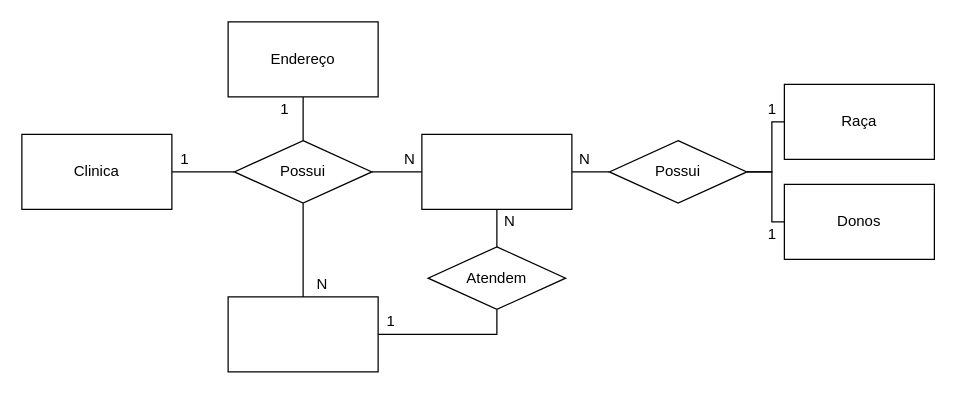
The diagram is 956 pixels wide and 394 high, and some of its shapes have lost their labels. The box of each missing label's shape, as (x1, y1, x2, y2) in pixels:
Pets: (421, 133, 572, 209)
Veterinarios: (227, 296, 378, 372)
